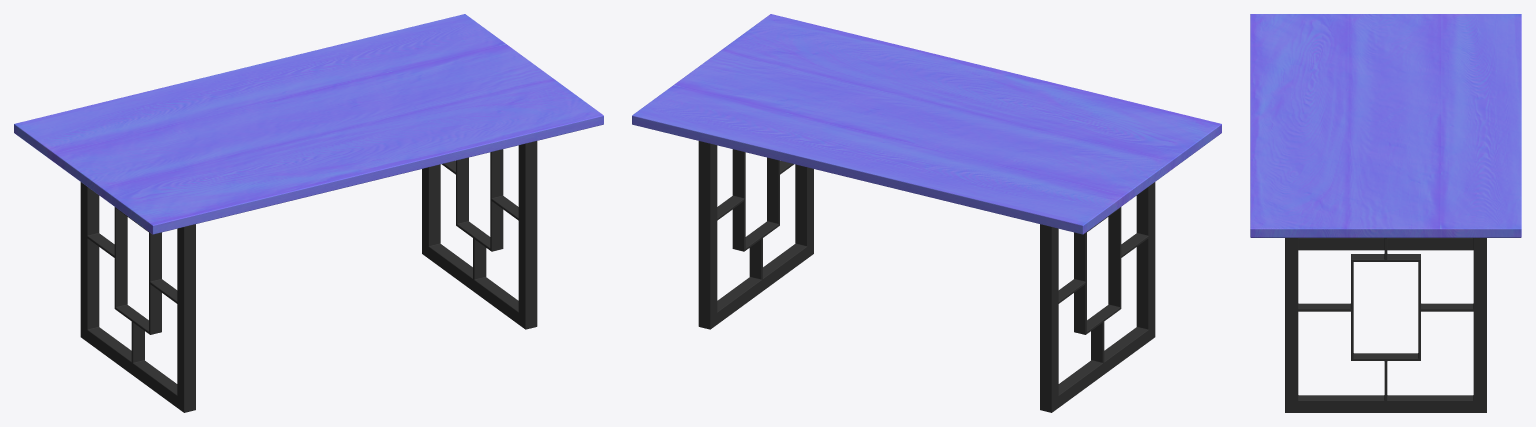
File: moderntable.glb
3 views of the same model, side by side, from view 1: azimuth 30°, elevation 25°; view 2: azimuth 150°, elevation 25°; view 3: azimuth 270°, elevation 25° (orthographic). The views are drawn at different scales.
Visible parts, largest first — view 1: Industrial Table_0; view 2: Industrial Table_0; view 3: Industrial Table_0.
Boxes of the visible parts, x1=… form: Industrial Table_0: x1=14, y1=14, x2=603, y2=412; Industrial Table_0: x1=632, y1=14, x2=1221, y2=412; Industrial Table_0: x1=1250, y1=14, x2=1521, y2=412.
Size of the model in its own units: 1.5 by 0.675 by 0.8.
Materials: 2 (1 with a texture image).
